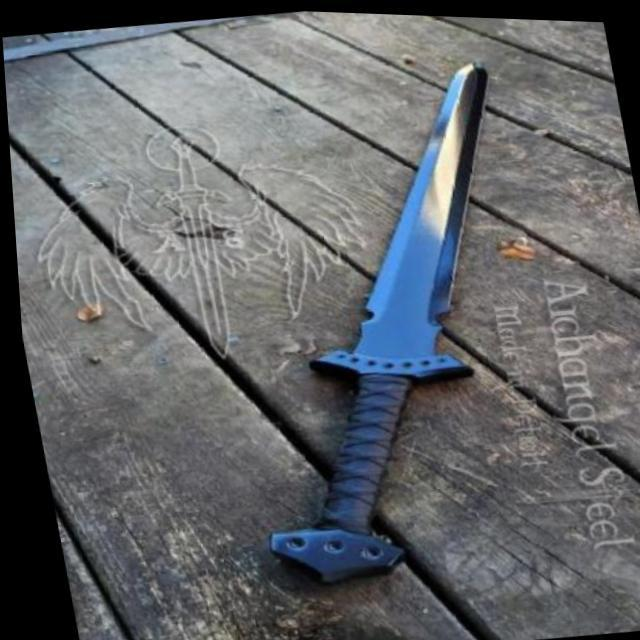weapon: (172, 45, 585, 602)
